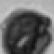correct: (0, 8, 53, 54)
